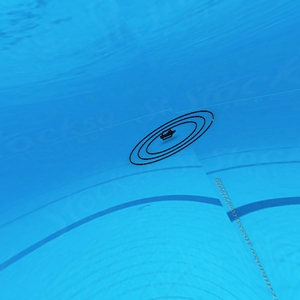circle: (126, 103, 216, 167)
submarine: (159, 127, 173, 138)
